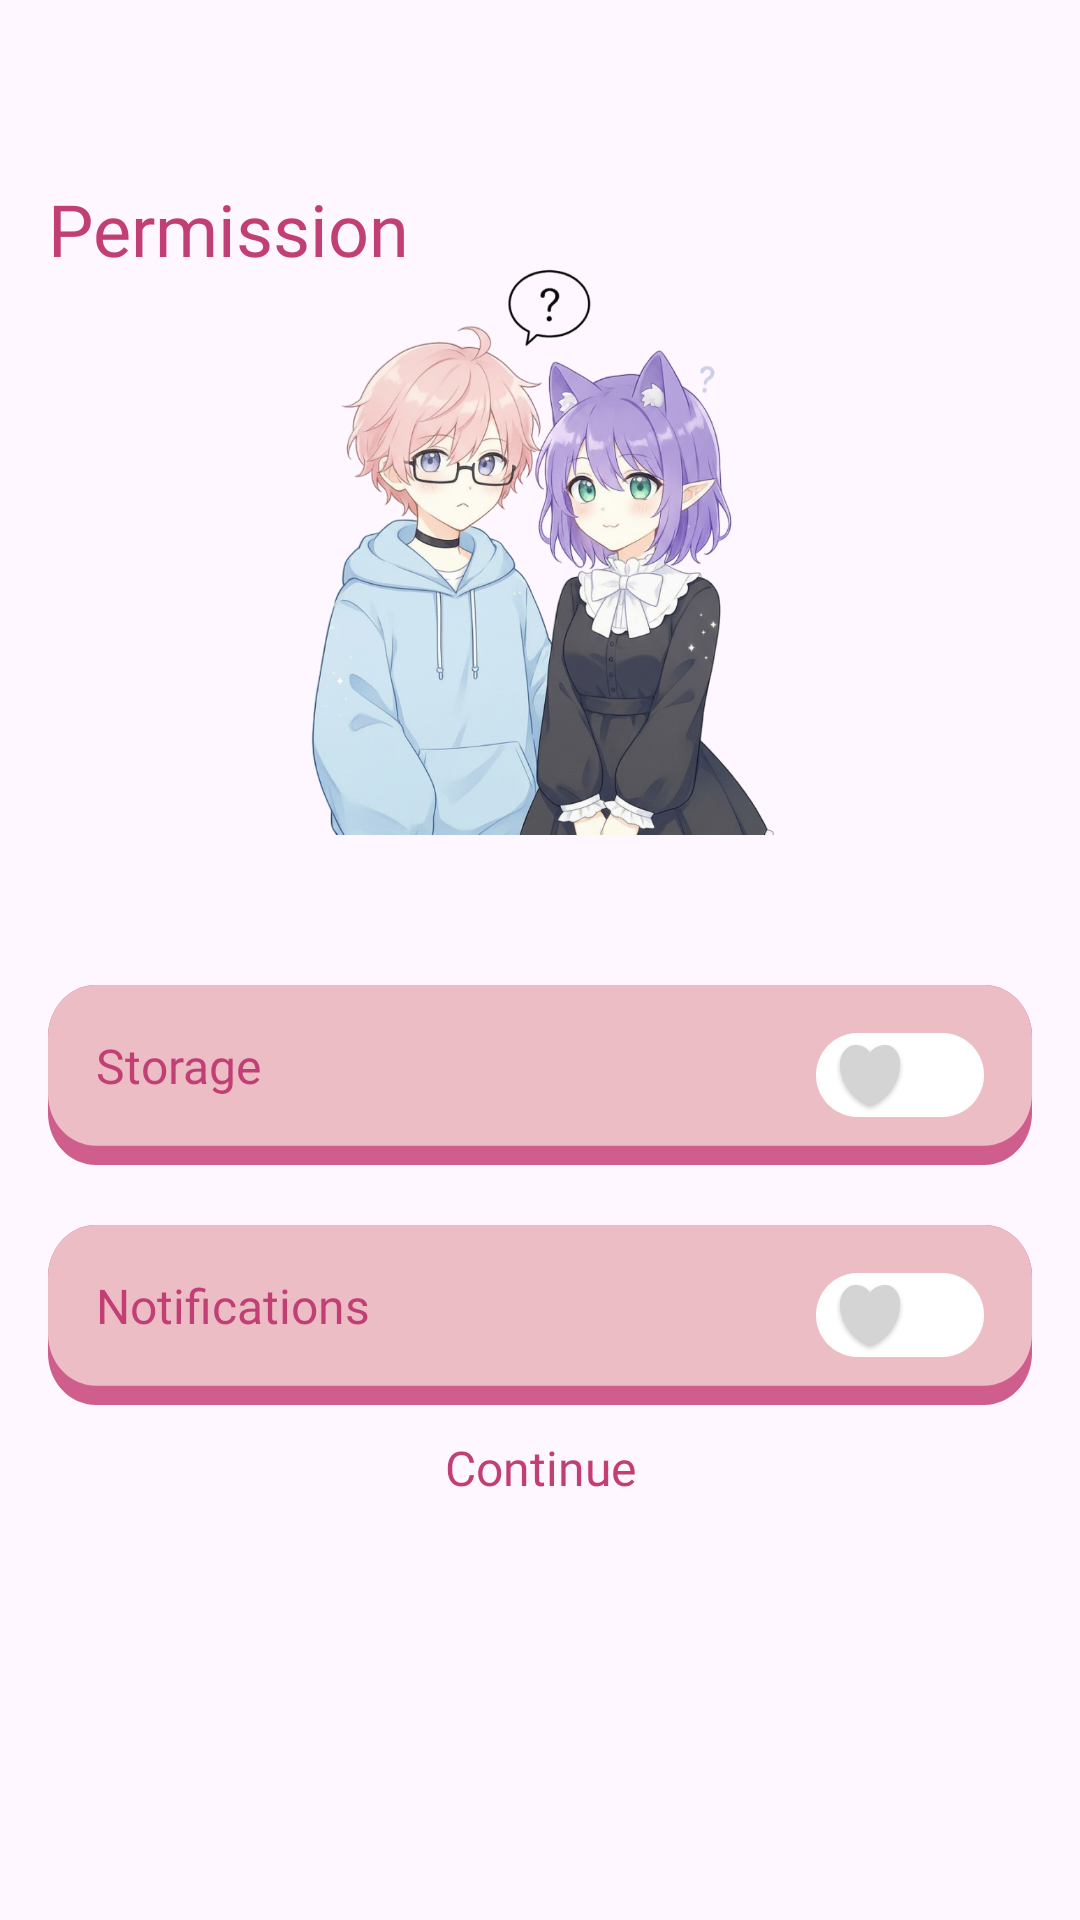

Point at icon controls on the screen. Image size 1080px x 1920px, points as (x=x, y=y).
switch off: (x=900, y=1075), (x=900, y=1315)
